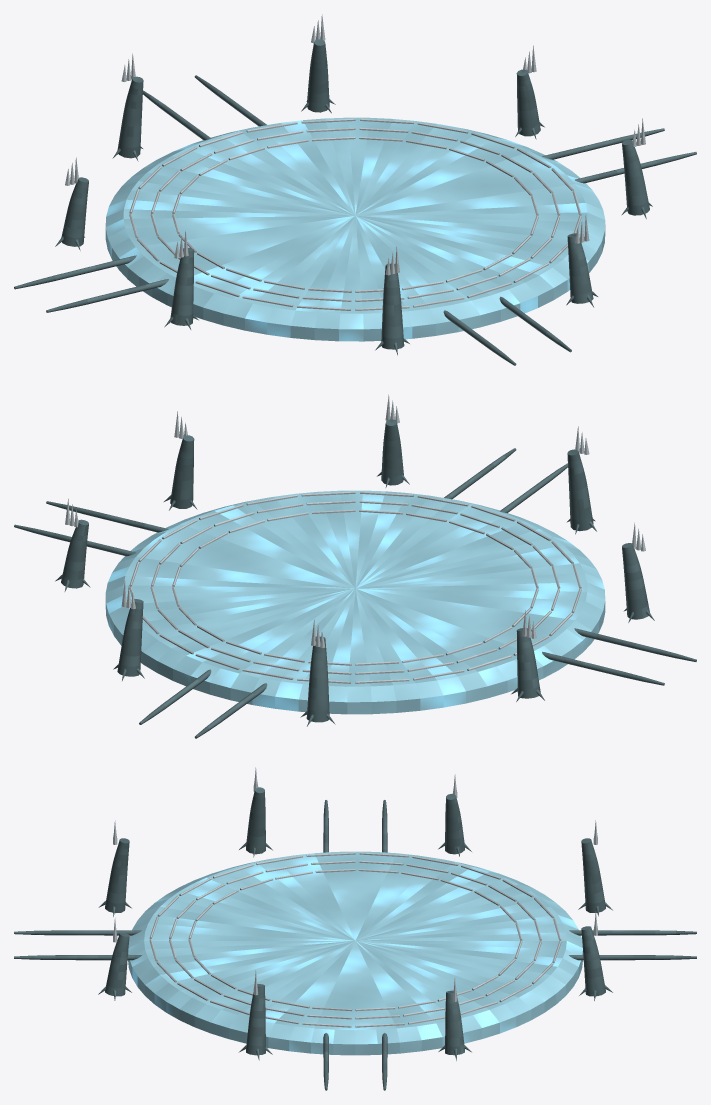
The model's file is underworld-boss-arena-white-silence.glb.
The picture shows the model from 3 angles, top to bottom: view 1: azimuth 30°, elevation 25°; view 2: azimuth 150°, elevation 25°; view 3: azimuth 270°, elevation 25°; orthographic projection. The views are drawn at different scales.
Visible parts, largest first — view 1: combat-foundation, floor-inlay-2, floor-inlay-1, floor-inlay-0, buttress-2, buttress-5, buttress-7, buttress-4, buttress-1, buttress-3, buttress-6, buttress-0 (+5 smaller); view 2: combat-foundation, floor-inlay-2, floor-inlay-1, floor-inlay-0, buttress-5, buttress-2, buttress-4, buttress-1, buttress-7, buttress-0, buttress-3, buttress-6 (+6 smaller); view 3: combat-foundation, floor-inlay-2, floor-inlay-1, floor-inlay-0, buttress-5, buttress-2, buttress-1, buttress-7, buttress-4, buttress-6, buttress-0, buttress-3 (+4 smaller).
Part boxes in pixels (left/top/right/bottom): combat-foundation: left=105, top=117, right=605, bottom=341; floor-inlay-2: left=129, top=118, right=581, bottom=310; floor-inlay-1: left=150, top=127, right=560, bottom=301; floor-inlay-0: left=172, top=136, right=538, bottom=292; buttress-2: left=117, top=76, right=143, bottom=158; buttress-5: left=381, top=263, right=404, bottom=349; buttress-7: left=622, top=139, right=649, bottom=215; buttress-4: left=170, top=248, right=194, bottom=325; buttress-1: left=307, top=39, right=329, bottom=112; buttress-3: left=61, top=177, right=88, bottom=246; buttress-6: left=567, top=233, right=593, bottom=303; buttress-0: left=516, top=69, right=540, bottom=136; combat-foundation: left=105, top=490, right=605, bottom=714; floor-inlay-2: left=129, top=491, right=581, bottom=683; floor-inlay-1: left=150, top=500, right=560, bottom=674; floor-inlay-0: left=172, top=509, right=538, bottom=665; buttress-5: left=567, top=449, right=593, bottom=531; buttress-2: left=306, top=636, right=329, bottom=722; buttress-4: left=622, top=543, right=649, bottom=619; buttress-1: left=117, top=599, right=143, bottom=676; buttress-7: left=170, top=435, right=194, bottom=508; buttress-0: left=61, top=519, right=88, bottom=588; buttress-3: left=516, top=628, right=540, bottom=698; buttress-6: left=381, top=419, right=403, bottom=485; combat-foundation: left=128, top=851, right=583, bottom=1055; floor-inlay-2: left=149, top=852, right=561, bottom=1027; floor-inlay-1: left=169, top=860, right=541, bottom=1019; floor-inlay-0: left=188, top=869, right=522, bottom=1011; buttress-5: left=105, top=838, right=129, bottom=913; buttress-2: left=581, top=838, right=605, bottom=912; buttress-1: left=581, top=926, right=605, bottom=996; buttress-7: left=246, top=984, right=265, bottom=1055; buttress-4: left=246, top=787, right=265, bottom=854; buttress-6: left=105, top=933, right=129, bottom=996; buttress-0: left=445, top=990, right=464, bottom=1055; buttress-3: left=445, top=794, right=464, bottom=854.
Size of the model in its own units: 42 by 6.7 by 42.
Materials: 3 (3 with a texture image).
